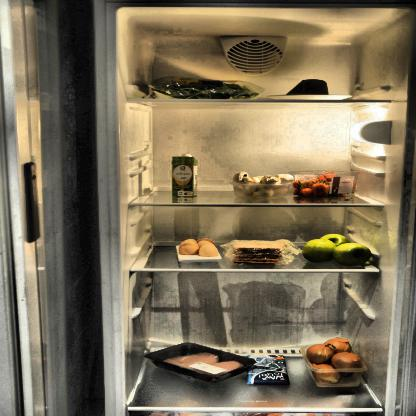apple: (300, 233, 376, 265)
cheese: (284, 77, 328, 96)
chicken: (156, 348, 251, 380)
chocolate: (246, 352, 292, 386)
eggs: (176, 237, 223, 258)
heavy_cream: (168, 153, 199, 201)
mushrooms: (233, 172, 294, 199)
onion: (304, 336, 365, 388)
spinach: (151, 78, 268, 104)
strawberries: (292, 171, 350, 197)
